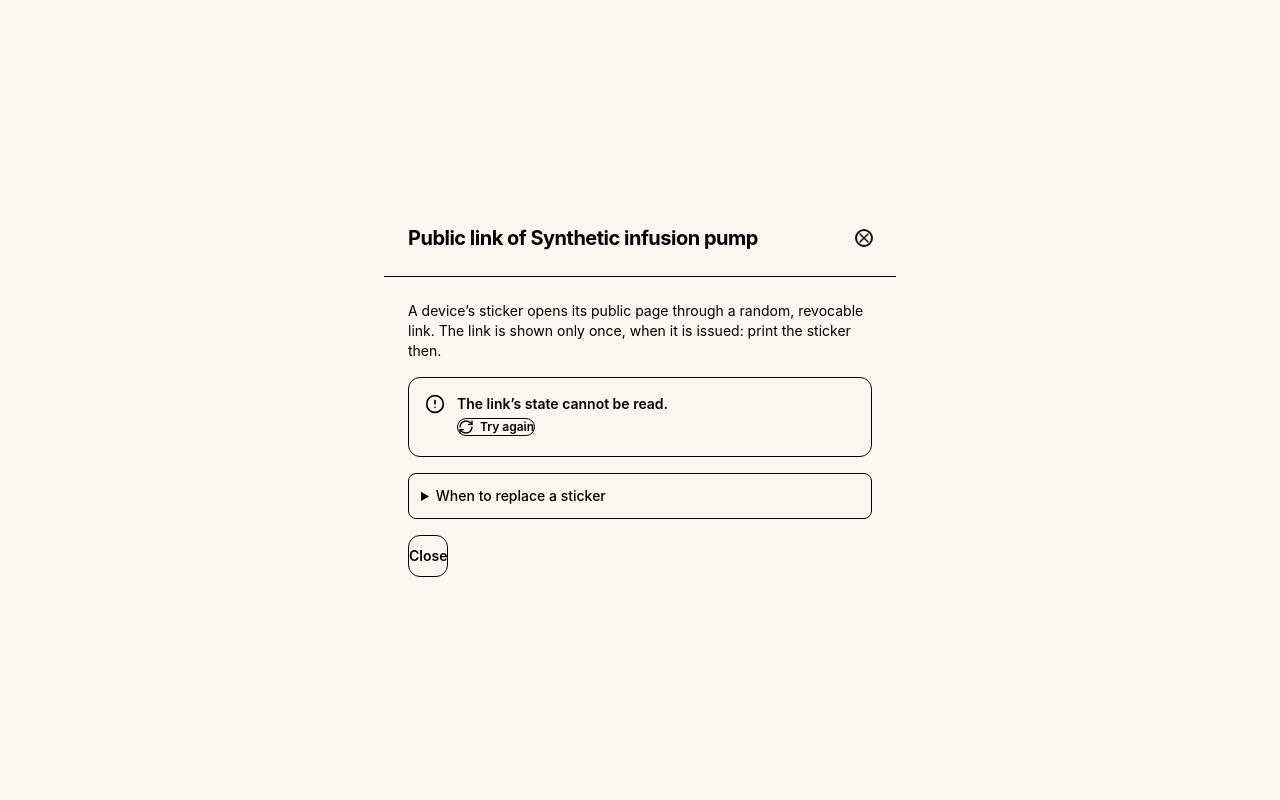
Test: P22-08 — the panel › a failed read is not 'no link': it says so and retries
This screenshot has width=1280, height=800.
Expected: the text "The link’s state cannot be read." is shown, [457,394,668,412]
Expected: the button "Issue a link" is not shown
Click the button "Try again" at [496, 426], box [457,418,535,436]
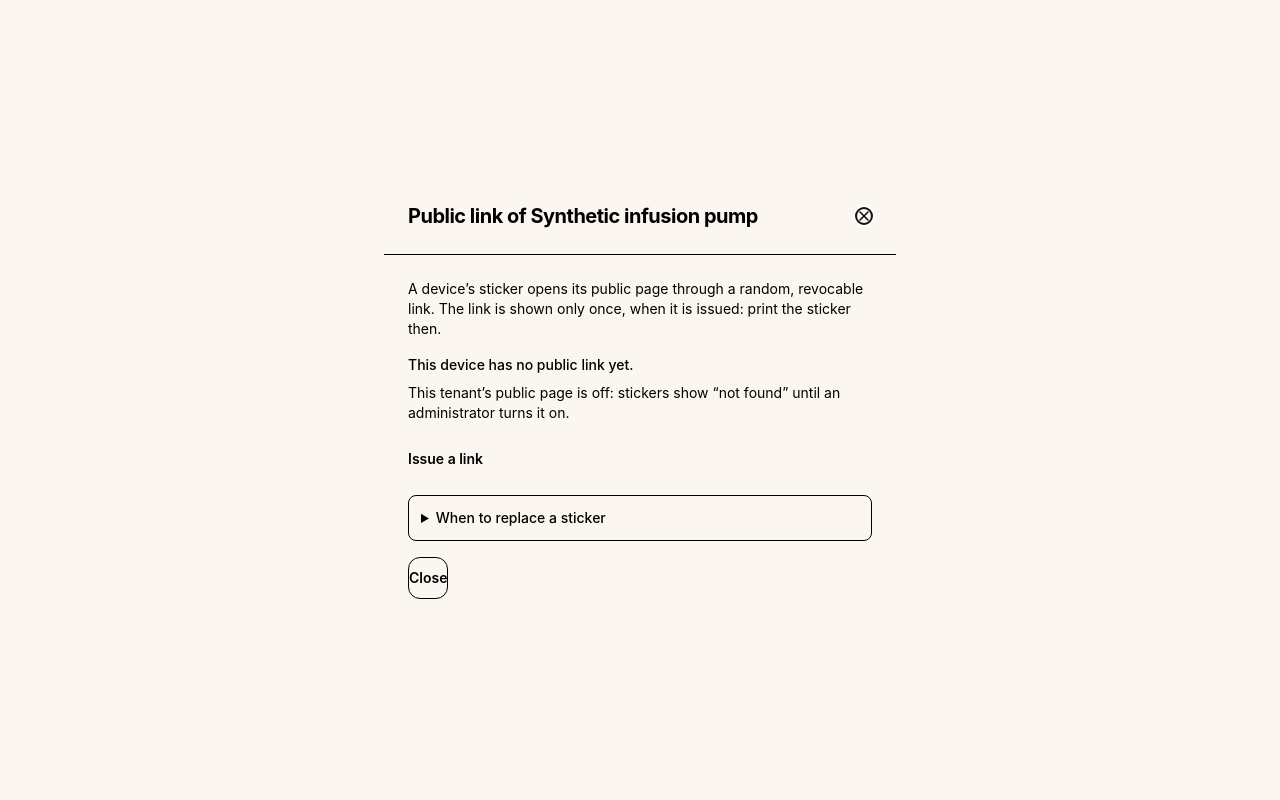
Expected: the text "This device has no public link yet." is shown, [408,356,634,372]
